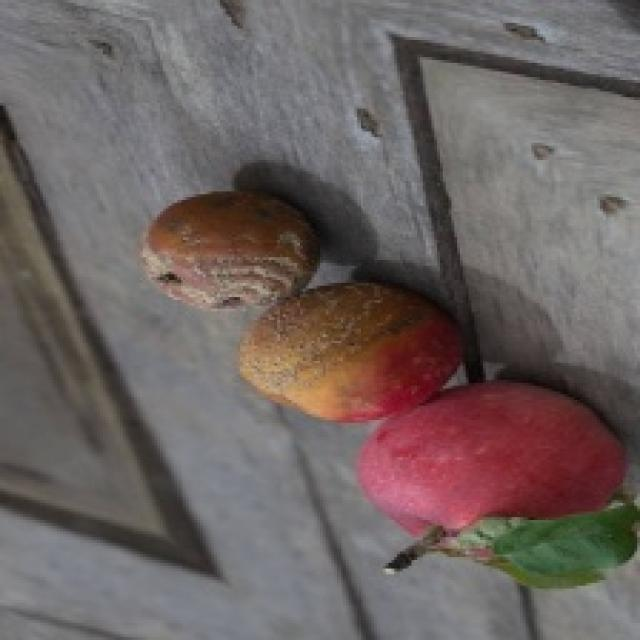rotten_apple: (246, 290, 458, 419), (144, 190, 318, 302)
